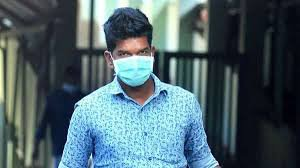mask: (95, 8, 167, 96)
